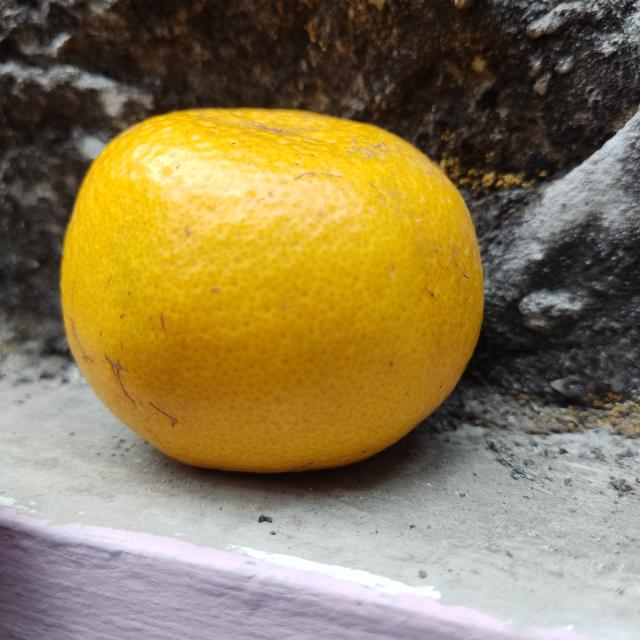orange: (58, 105, 485, 478)
